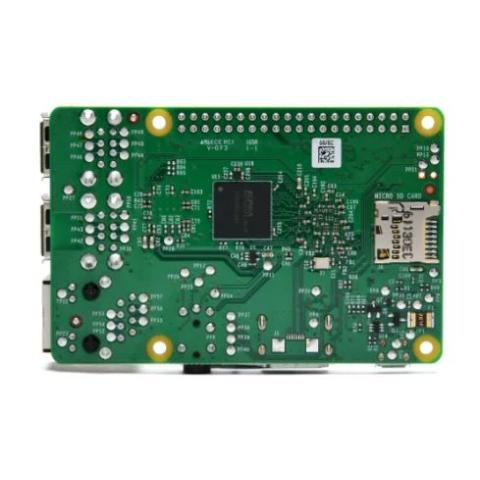Raspberry-Pi-2-Model-B: (31, 96, 457, 386)
